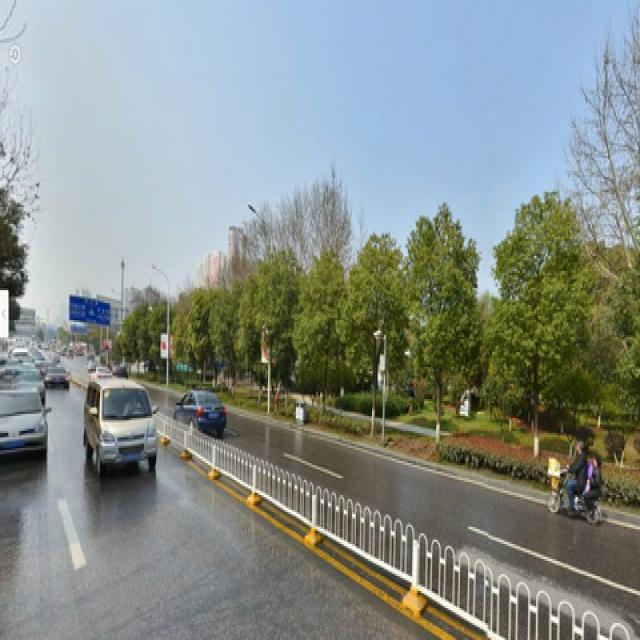cinn: (503, 216, 572, 474), (417, 235, 463, 448), (347, 260, 397, 435), (300, 277, 339, 414)
